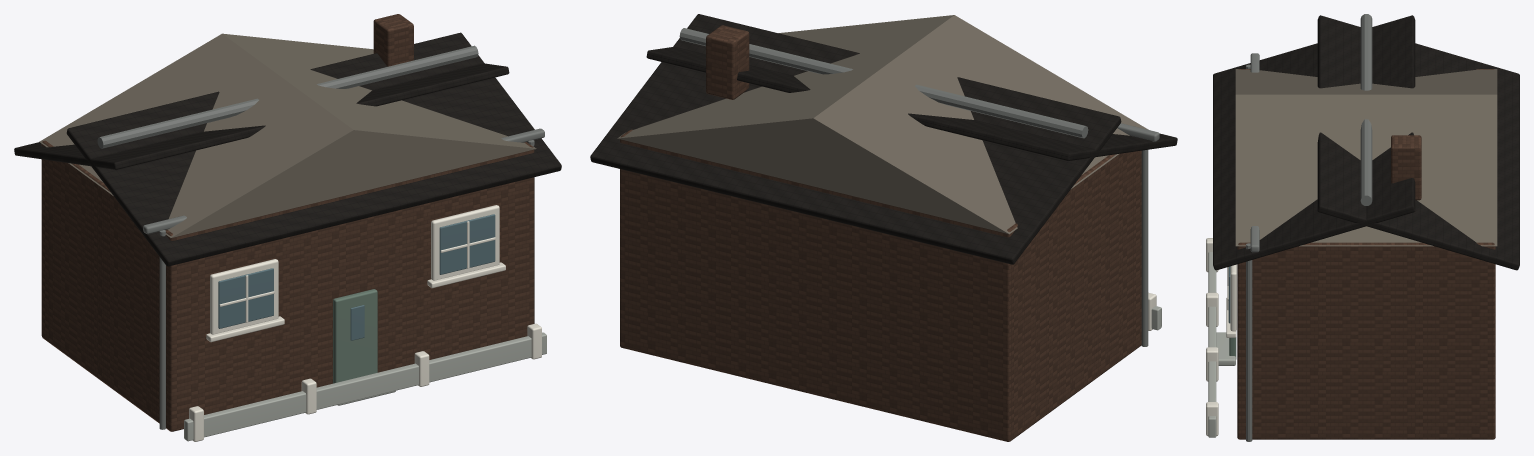
File: kilmore_house_a.glb
3 renders of one model, left to right at view 1: azimuth 30°, elevation 25°; view 2: azimuth 150°, elevation 25°; view 3: azimuth 270°, elevation 25°, orthographic. The views are drawn at different scales.
Visible parts, largest first — view 1: SM_Kilmore_HouseFacade_A_CombinedMesh; view 2: SM_Kilmore_HouseFacade_A_CombinedMesh; view 3: SM_Kilmore_HouseFacade_A_CombinedMesh.
Boxes of the visible parts, <box> form: SM_Kilmore_HouseFacade_A_CombinedMesh: <box>14,14,561,441</box>; SM_Kilmore_HouseFacade_A_CombinedMesh: <box>590,14,1177,441</box>; SM_Kilmore_HouseFacade_A_CombinedMesh: <box>1206,14,1519,441</box>.
Size of the model in its own units: 9.2 by 6.05 by 6.31.
8 materials, 3 textured.
